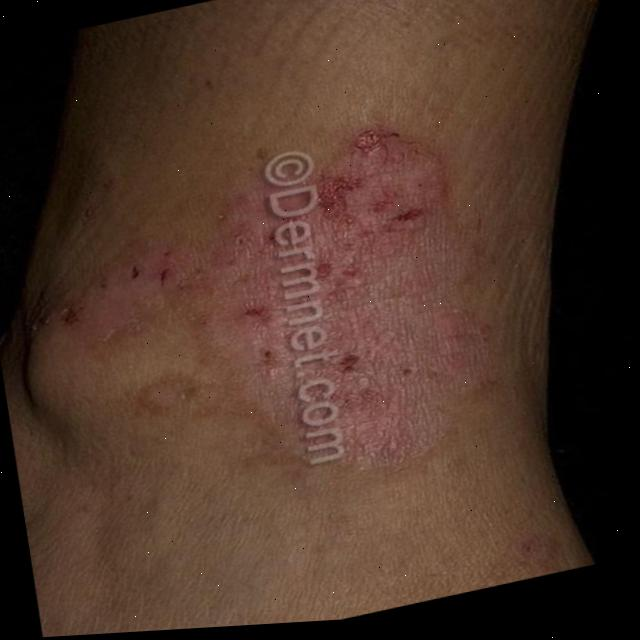Eczema: (178, 121, 455, 449)
